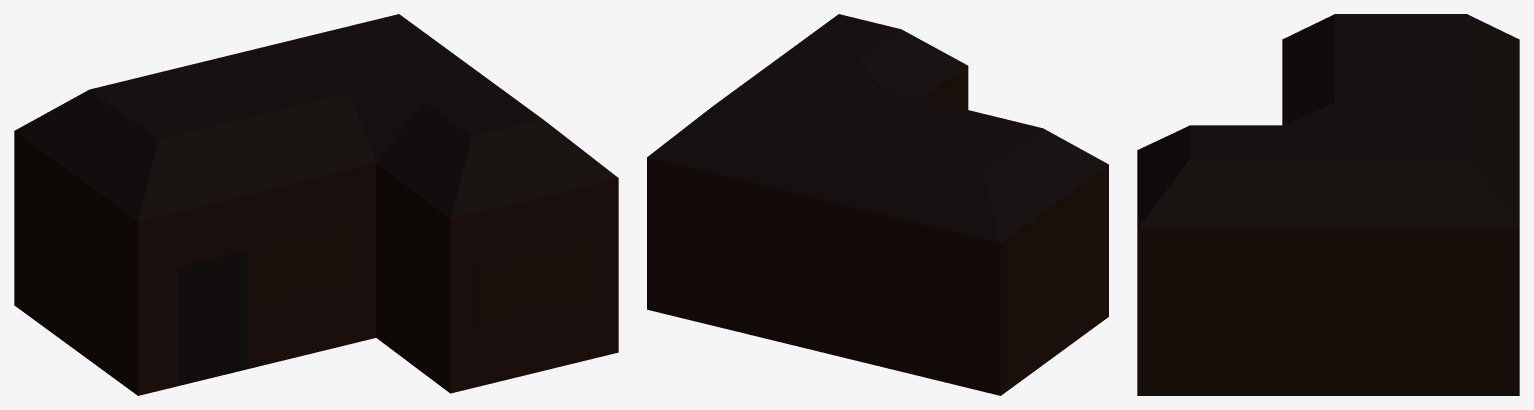
Rendered from cabin_v3.obj.
The picture shows the model from 3 angles, left to right: view 1: azimuth 30°, elevation 25°; view 2: azimuth 150°, elevation 25°; view 3: azimuth 270°, elevation 25°; orthographic projection. The views are drawn at different scales.
Parts seen in each view (by area): view 1: Cube; view 2: Cube; view 3: Cube.
Boxes of the visible parts, bbox=[...] form: Cube: bbox=[14, 14, 618, 395]; Cube: bbox=[647, 14, 1108, 395]; Cube: bbox=[1137, 14, 1519, 395].
Bounding box in the file's own units: 8.5 × 4.5 × 7.25.
